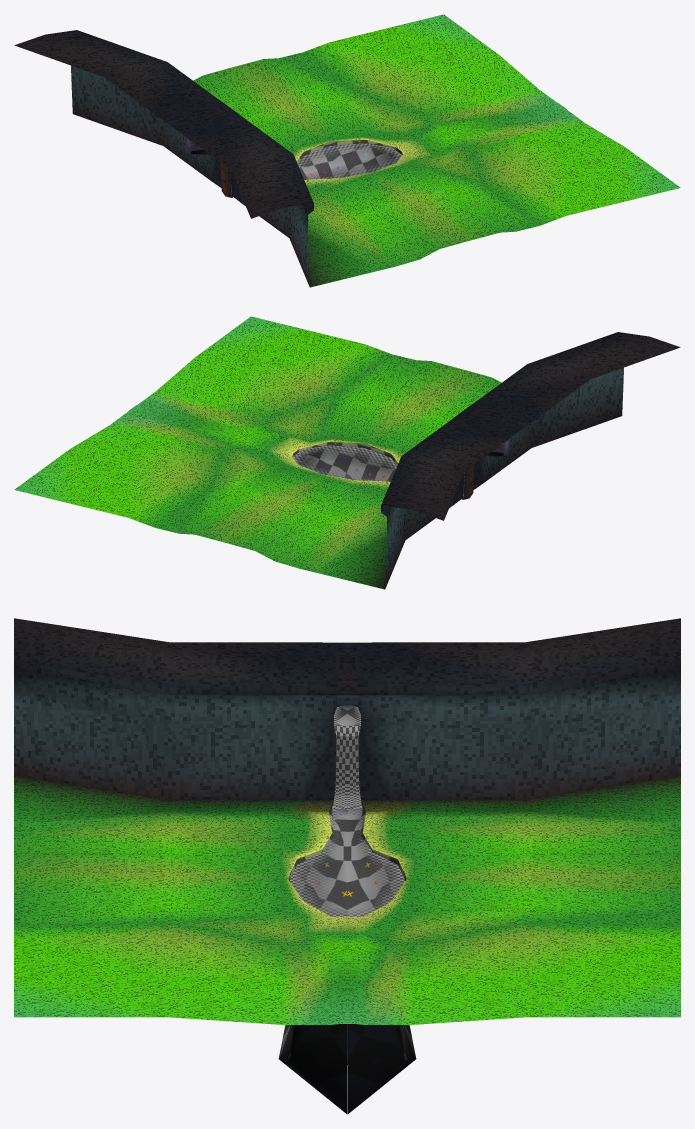
Rendered from wfall.glb.
The picture shows the model from 3 angles, top to bottom: view 1: azimuth 30°, elevation 25°; view 2: azimuth 150°, elevation 25°; view 3: azimuth 270°, elevation 25°; orthographic projection. The views are drawn at different scales.
Parts seen in each view (by area): view 1: Plane, WaterSurface; view 2: Plane, WaterSurface; view 3: Plane, WaterSurface, Waterfall.
Part boxes in pixels (<box>): Plane: <box>14,14,680,287</box>; WaterSurface: <box>231,143,402,196</box>; Plane: <box>14,316,680,589</box>; WaterSurface: <box>292,445,463,498</box>; Plane: <box>14,618,680,1114</box>; WaterSurface: <box>290,706,404,916</box>; Waterfall: <box>332,726,362,809</box>.
Size of the model in its own units: 17.1 by 6.39 by 16.33.
4 materials, 4 textured.
